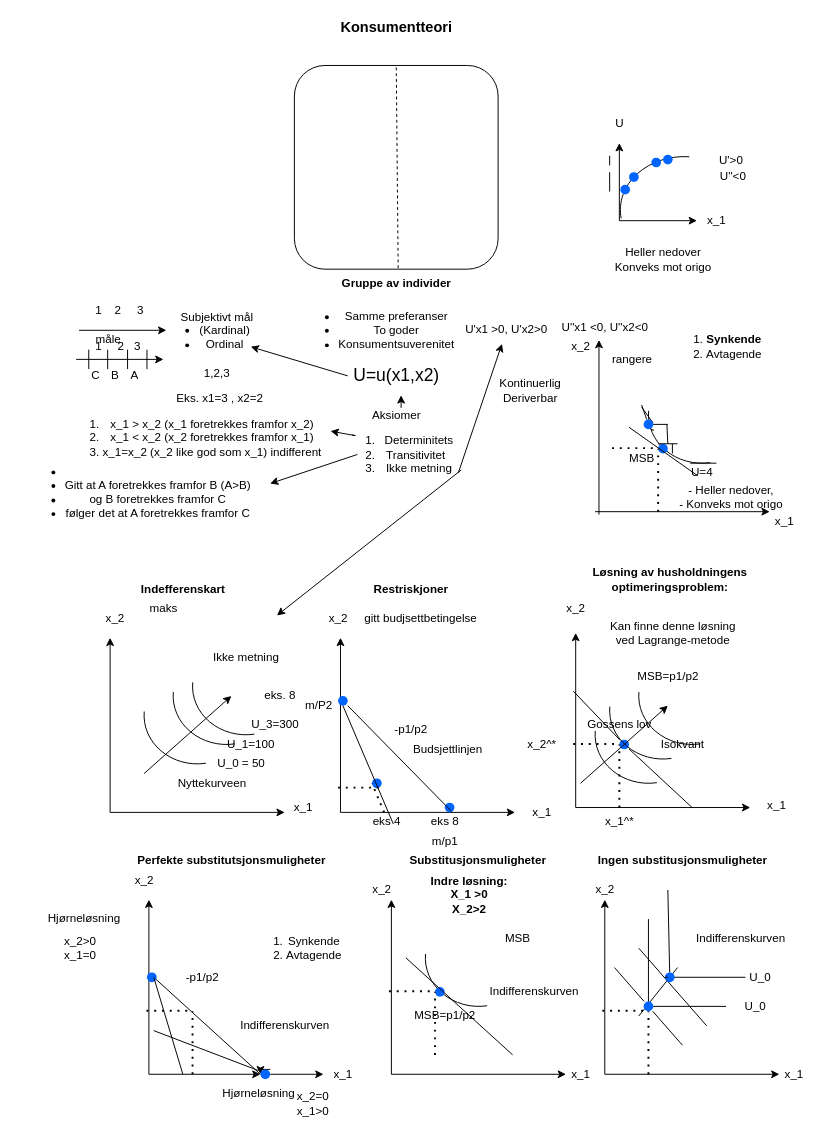
Some shapes in this 825 by 1134 pixel diagram are drawn without their labels. The shapes that lost their labels are listed below. From the top down, each one's box as (x1, y1, x2, y2) in pixels, then its label:
(293, 65, 498, 269): Konsumentens valg
(647, 365, 755, 463): Indiffernskurve (isonytte)
